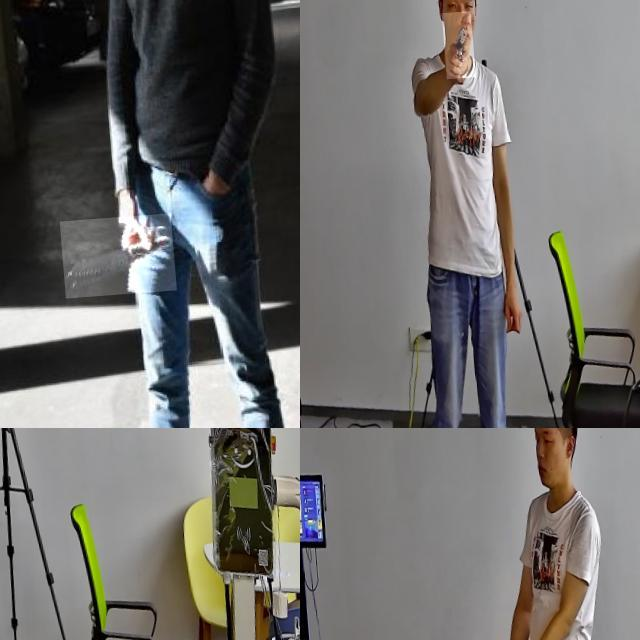-: (53, 218, 169, 301)
gun-knife-thesis - v11 Yolov5 augmented: (439, 16, 472, 84), (0, 428, 26, 466)
